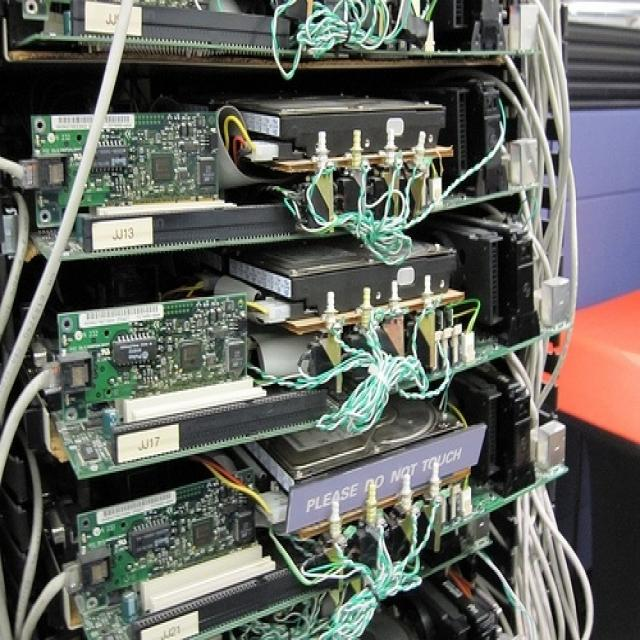E-waste: (13, 9, 602, 640)
